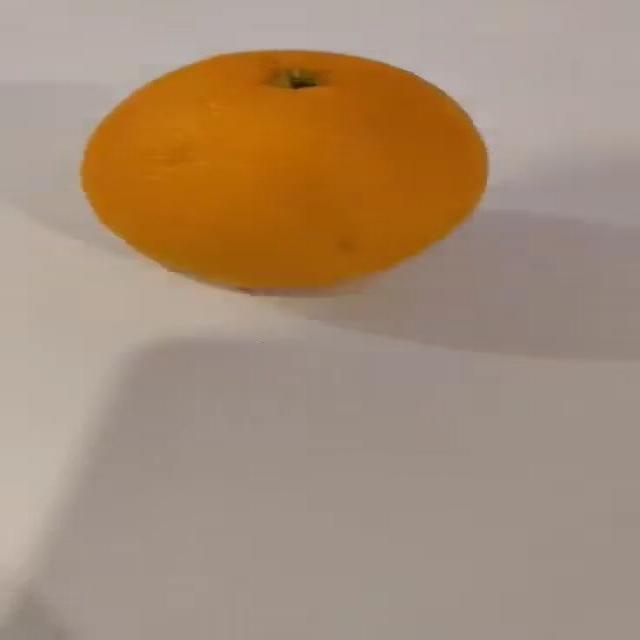Orange: (75, 45, 493, 300)
